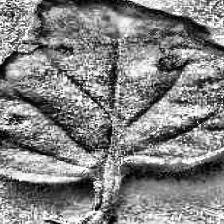disease: (0, 0, 224, 183)
